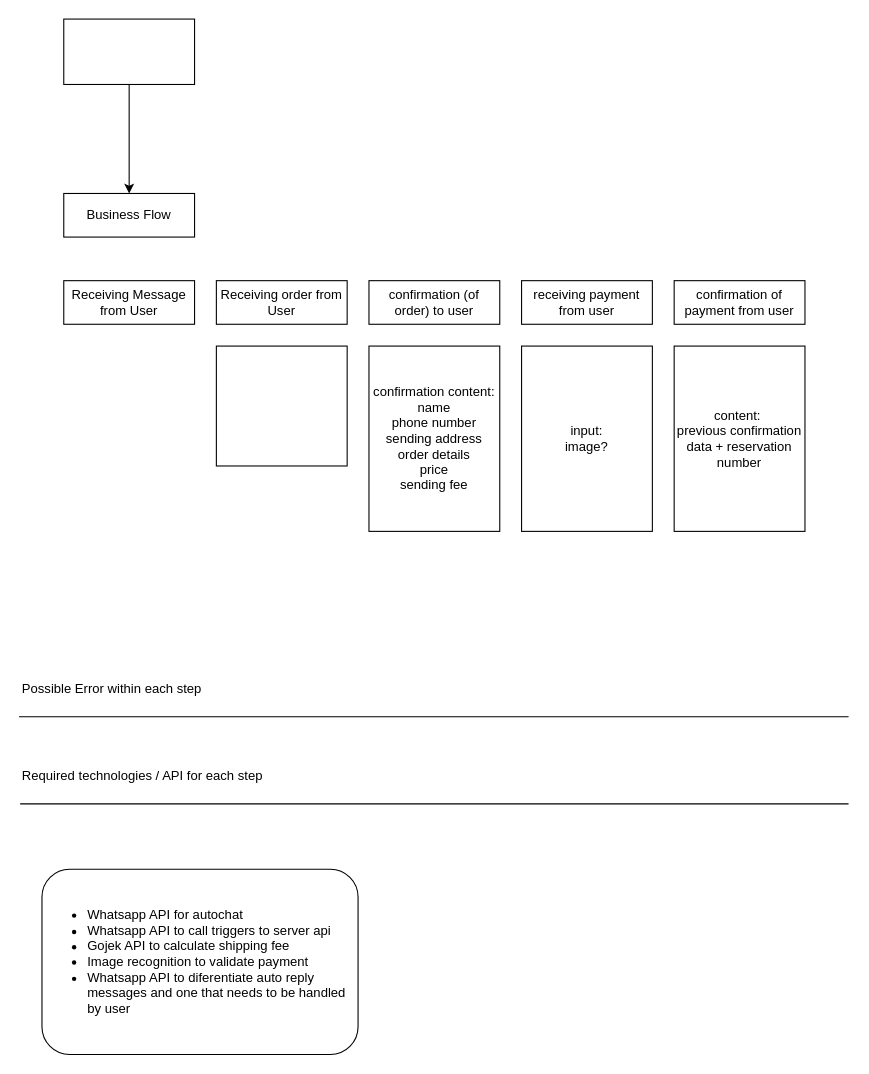
The diagram is 869 pixels wide and 1074 high, and some of its shapes have lost their labels. Each missing label, with the centre of its shape:
"Nel's Croquette Business Whatsapp API and Gojek API integration" belongs at [129,51].
"Order details: name phone number sending address order" belongs at [281,405].
